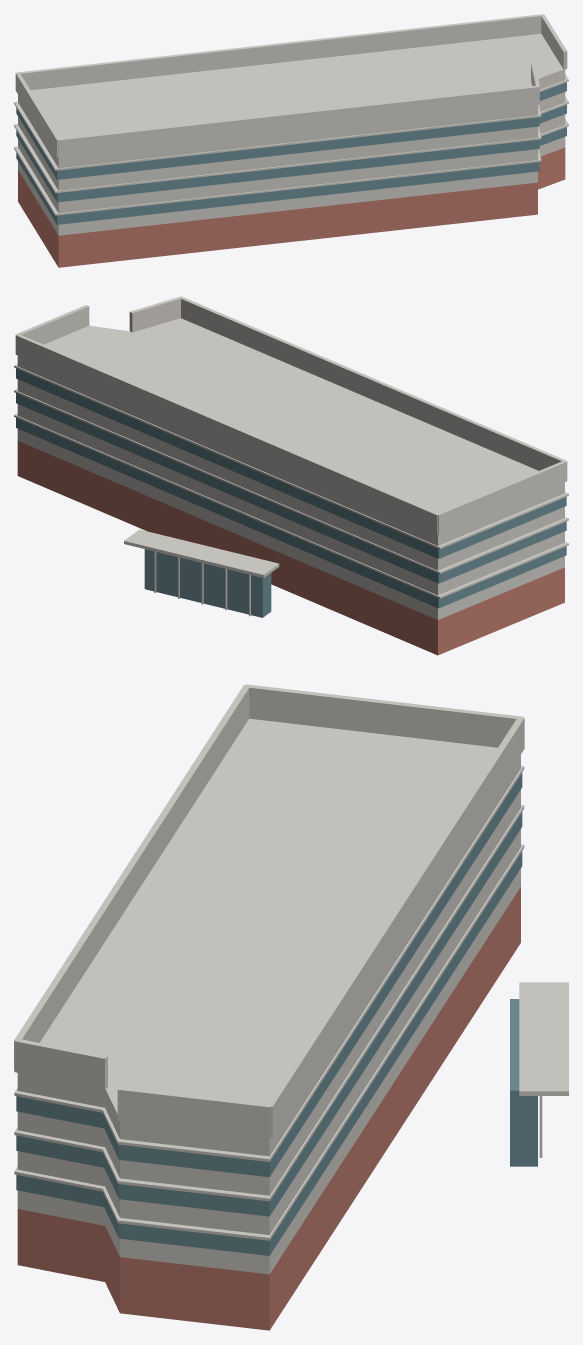
File: chung.glb
3 renders of one model, top to bottom at view 1: azimuth 30°, elevation 25°; view 2: azimuth 150°, elevation 25°; view 3: azimuth 270°, elevation 25°, orthographic. The views are drawn at different scales.
Parts seen in each view (by area): view 1: CSY_roof_slab, CSY_upper, CSY_podium, CSY_parapet_1, CSY_parapet_3, CSY_ribbon_2, CSY_ribbon_1, CSY_ribbon_0, CSY_ribbon_top_0, CSY_ribbon_top_1, CSY_ribbon_top_2, CSY_band (+2 smaller); view 2: CSY_roof_slab, CSY_upper, CSY_podium, CSY_parapet_1, CSY_parapet_3, CSY_ribbon_0, CSY_ribbon_1, CSY_ribbon_2, CSY_atrium, CSY_parapet_2, CSY_canopy, CSY_band (+5 smaller); view 3: CSY_roof_slab, CSY_upper, CSY_podium, CSY_parapet_1, CSY_parapet_3, CSY_parapet_2, CSY_ribbon_1, CSY_ribbon_0, CSY_ribbon_2, CSY_canopy, CSY_parapet_0, CSY_ribbon_top_1 (+5 smaller).
Boxes of the visible parts, x1,y1,x2,y2 form: CSY_roof_slab: [18, 34, 565, 163]; CSY_upper: [18, 75, 565, 235]; CSY_podium: [18, 147, 565, 267]; CSY_parapet_1: [16, 14, 543, 90]; CSY_parapet_3: [57, 85, 539, 157]; CSY_ribbon_2: [16, 82, 566, 179]; CSY_ribbon_1: [16, 104, 566, 202]; CSY_ribbon_0: [16, 127, 566, 224]; CSY_ribbon_top_0: [14, 119, 568, 215]; CSY_ribbon_top_1: [14, 97, 568, 193]; CSY_ribbon_top_2: [14, 74, 568, 170]; CSY_band: [23, 145, 565, 235]; CSY_roof_slab: [17, 318, 564, 540]; CSY_upper: [17, 361, 564, 619]; CSY_podium: [17, 441, 564, 655]; CSY_parapet_1: [15, 334, 438, 534]; CSY_parapet_3: [179, 296, 567, 470]; CSY_ribbon_0: [16, 418, 566, 608]; CSY_ribbon_1: [16, 393, 566, 583]; CSY_ribbon_2: [16, 368, 566, 558]; CSY_atrium: [144, 549, 271, 617]; CSY_parapet_2: [436, 460, 567, 534]; CSY_canopy: [124, 529, 279, 577]; CSY_band: [17, 437, 564, 619]; CSY_roof_slab: [17, 718, 520, 1147]; CSY_upper: [17, 760, 520, 1273]; CSY_podium: [17, 887, 520, 1330]; CSY_parapet_1: [266, 717, 524, 1137]; CSY_parapet_3: [14, 685, 249, 1071]; CSY_parapet_2: [244, 684, 523, 747]; CSY_ribbon_1: [16, 812, 522, 1216]; CSY_ribbon_0: [16, 851, 522, 1255]; CSY_ribbon_2: [16, 772, 522, 1177]; CSY_canopy: [519, 982, 568, 1095]; CSY_parapet_0: [117, 1087, 270, 1138]; CSY_ribbon_top_1: [14, 805, 524, 1201].
Bounding box in the file's own units: 64.95 × 16 × 35.78.
